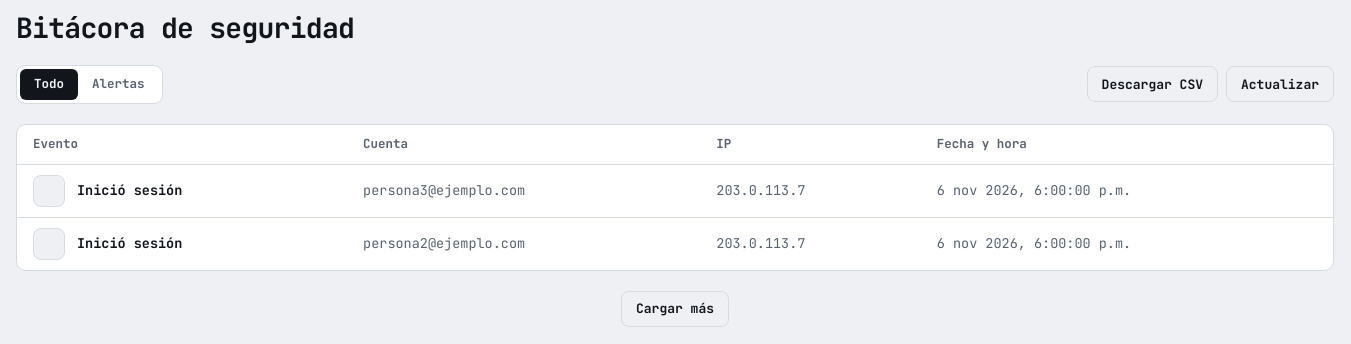
Scenario: PaginaBitacora › carga más eventos a partir del último y los agrega
The image size is (1351, 344).
Click the button "Cargar más": (675, 308) [621,290,729,326]
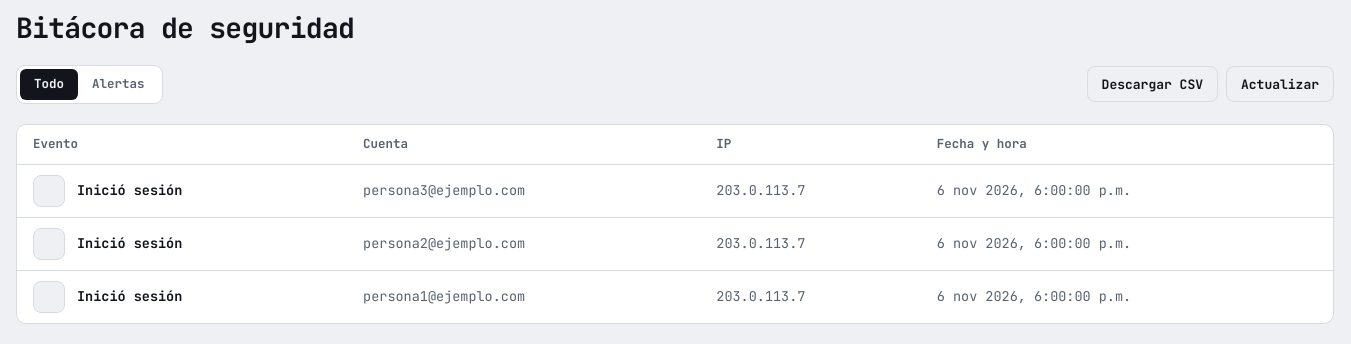
Check: the text "persona3@ejemplo.com" is shown, box [347,164,700,217]
Check: the text "persona1@ejemplo.com" is shown, box [347,270,700,322]
Check: the button "Cargar más" is gone
